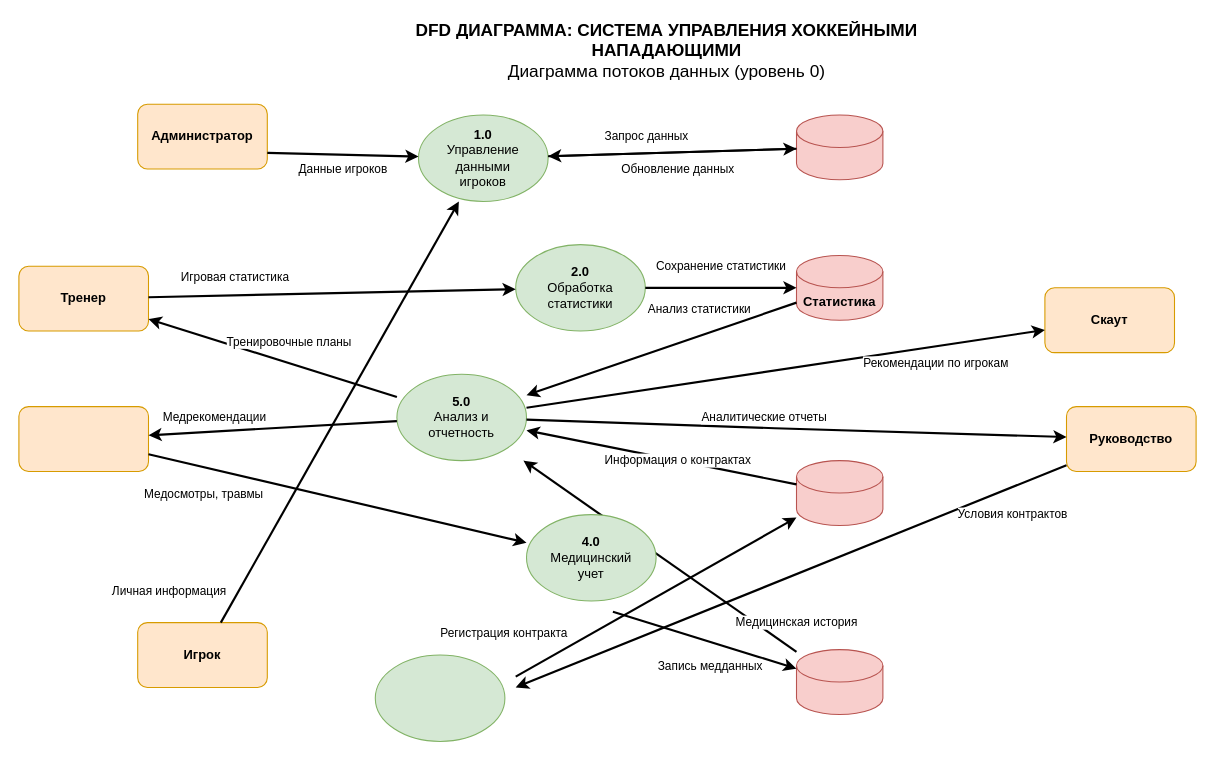
Some shapes in this 1215 by 760 pixel diagram are drawn without their labels. Each missing label, with the centre of its shape:
3.0 Управление контрактами: the point at 439,697
База игроков: the point at 839,147
Врач: the point at 83,438
Контракты: the point at 839,492
Медкарты: the point at 839,681
